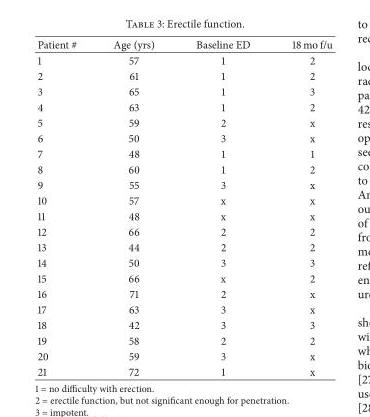table: (36, 36, 331, 378)
table column: (174, 36, 270, 378), (94, 36, 174, 378), (270, 36, 331, 378), (36, 36, 94, 378)
table column header: (36, 36, 331, 51)
table row: (36, 51, 331, 67), (36, 67, 331, 83), (36, 98, 331, 114), (36, 129, 331, 145), (36, 145, 331, 161), (36, 176, 331, 192), (36, 207, 331, 223), (36, 238, 331, 254), (36, 254, 331, 270), (36, 285, 331, 301), (36, 316, 331, 332), (36, 347, 331, 363), (36, 36, 331, 51), (36, 83, 331, 98), (36, 114, 331, 129), (36, 161, 331, 176), (36, 192, 331, 207), (36, 223, 331, 238), (36, 270, 331, 285), (36, 301, 331, 316), (36, 332, 331, 347), (36, 363, 331, 378)
